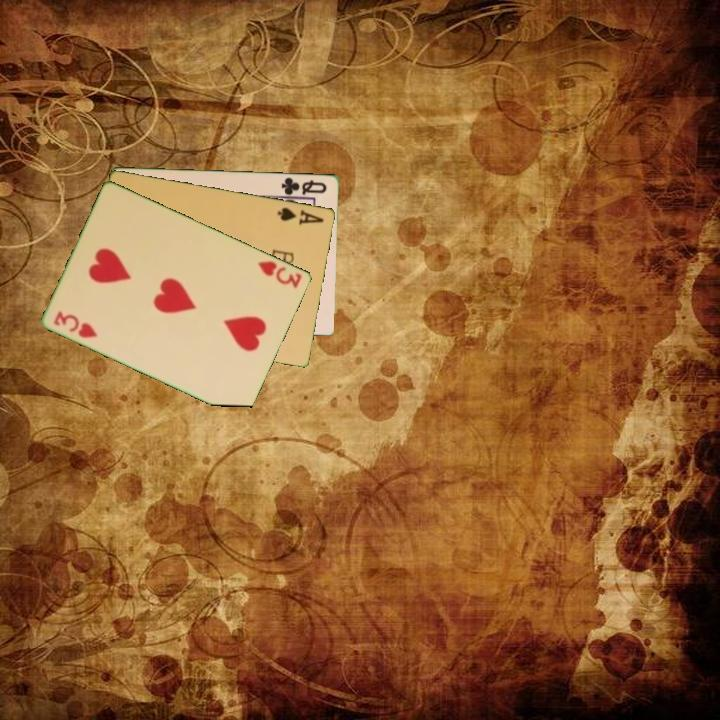3h: (254, 257, 305, 291), (50, 307, 100, 341)
As: (274, 203, 327, 228)
Qc: (278, 173, 330, 198)
